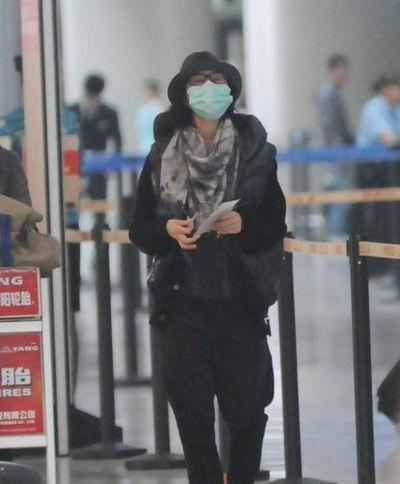OK: (184, 68, 235, 122)
